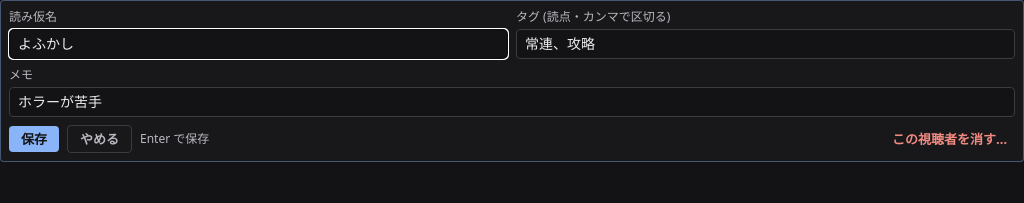
Test: ViewerEditor › 保存に失敗したら閉じずに、失敗したことを出す
Step 1. Click the button "保存" → click(34, 139), box 9,126 -> 59,152
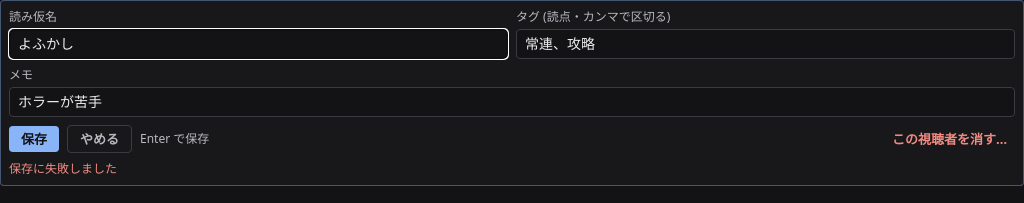
Check: the message reads "保存に失敗しました", box 9,160 -> 117,177
